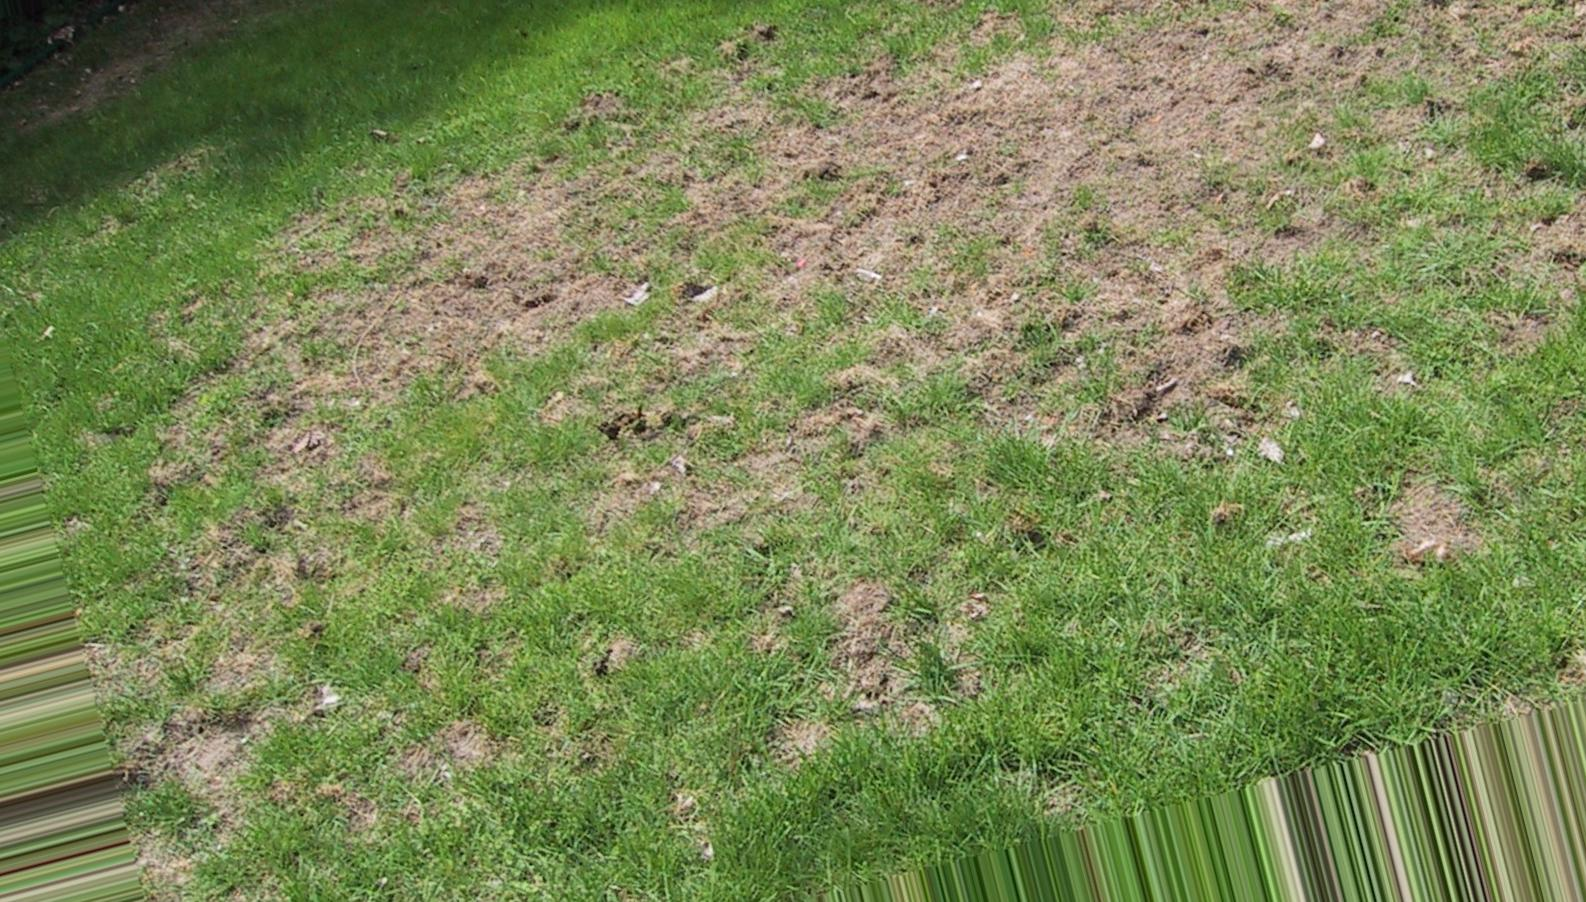patch: (761, 121, 1135, 378), (1173, 39, 1384, 223), (396, 216, 658, 337)
